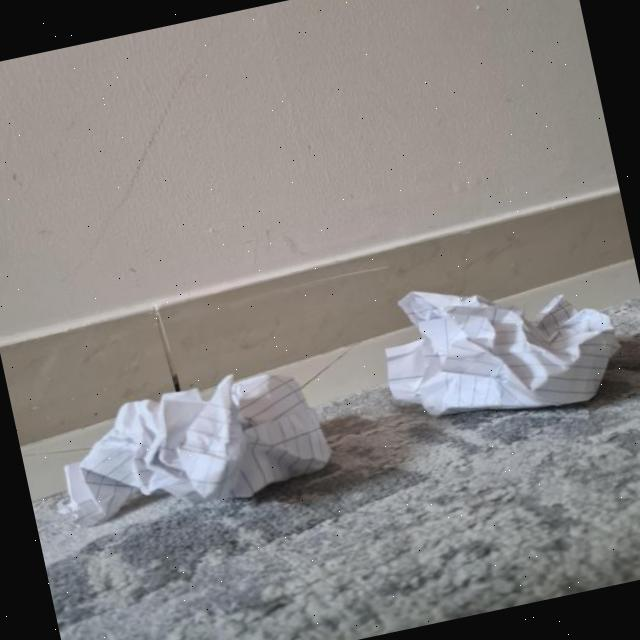trash: (45, 345, 342, 531), (371, 246, 638, 447)
